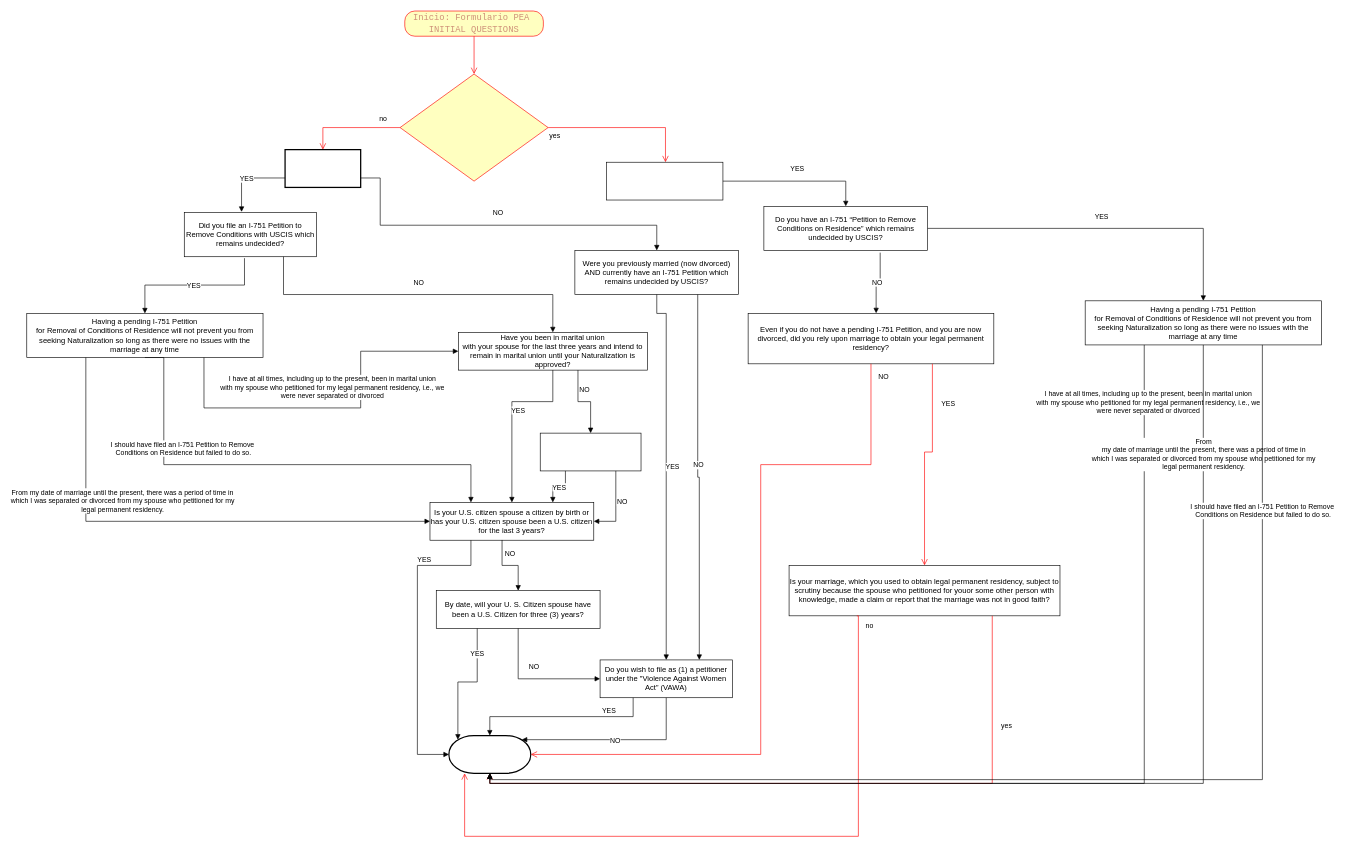
This 1345x854 diagram has some shape labels left out. Here are the shapes that lost their labels. From the top down, the centre of each, then its label:
the point at 473,127: Date you became a legal permanent residen LPR >= 4 años 9 meses
the point at 322,168: Are you currently married?
the point at 664,181: Are you currently married or ever married at any time previously?
the point at 590,451: By date, will you have lived with your spouse for 3 years?
the point at 489,754: NEXT PAGE
